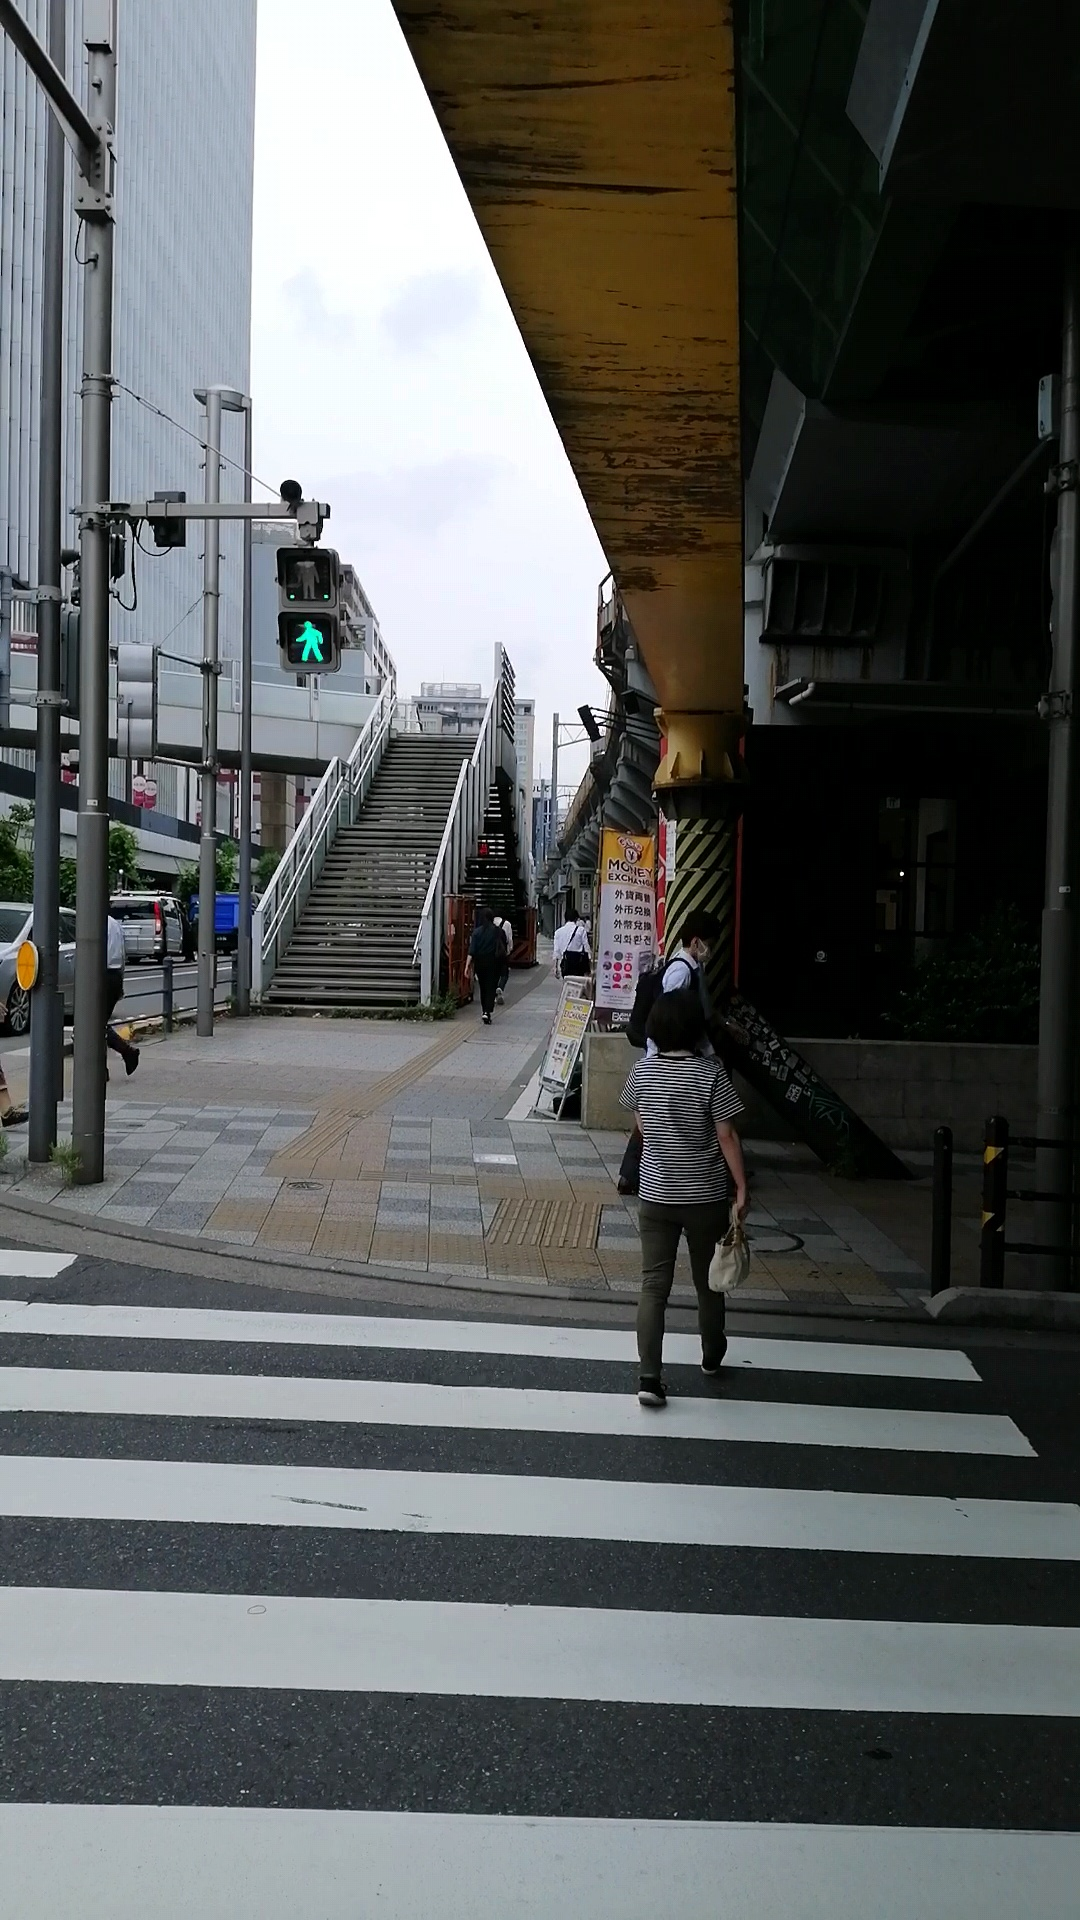green: (277, 549, 340, 670)
